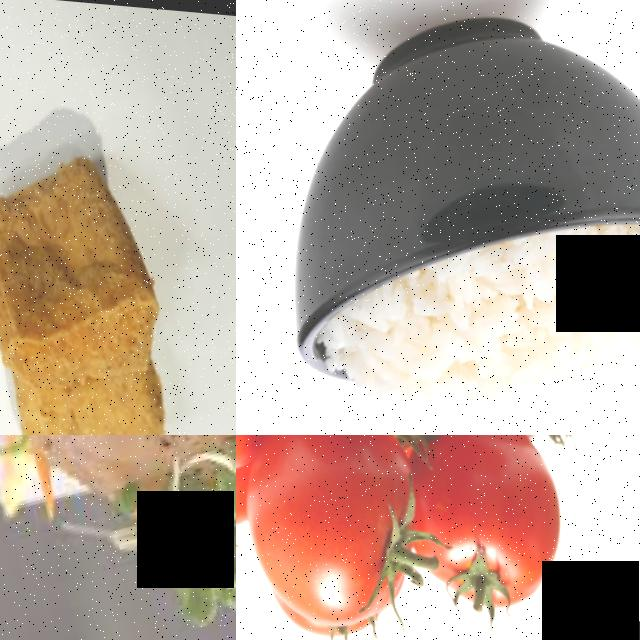tofu: (0, 120, 206, 417)
tomato: (236, 435, 478, 640), (378, 435, 619, 637)
tuna: (0, 435, 236, 526)
white rice: (296, 158, 640, 435)
